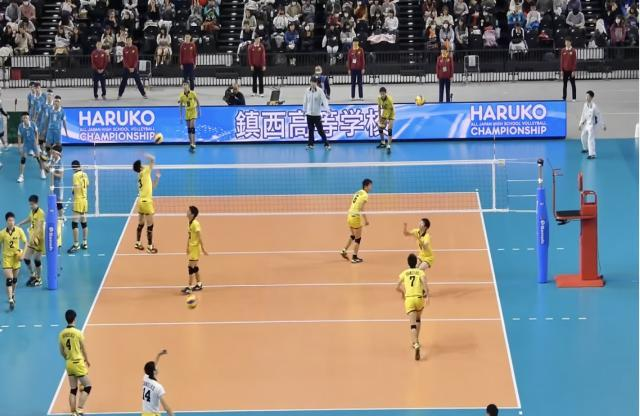spike: (128, 131, 170, 257)
